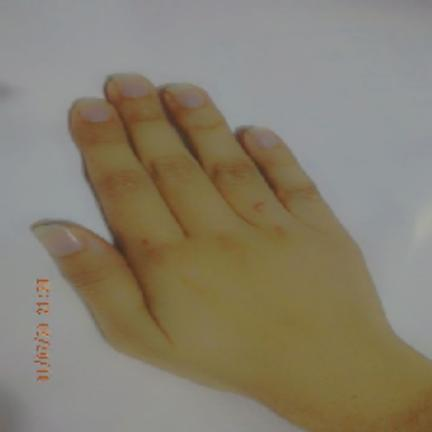Nail: (33, 221, 84, 257), (166, 82, 208, 108), (74, 97, 115, 122), (111, 72, 150, 98), (248, 127, 278, 148)
